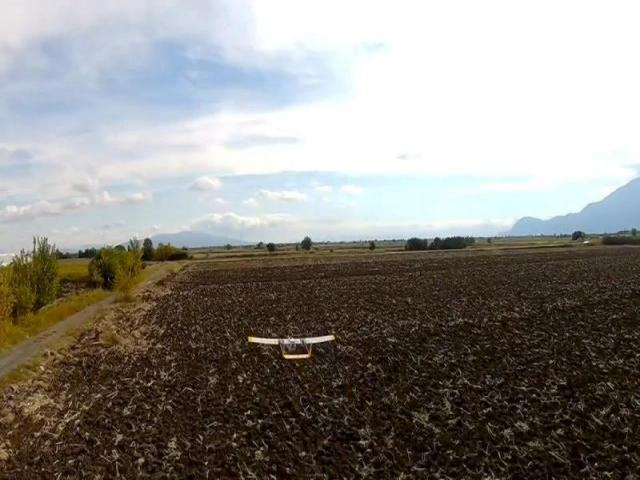hedef: (245, 330, 340, 362)
